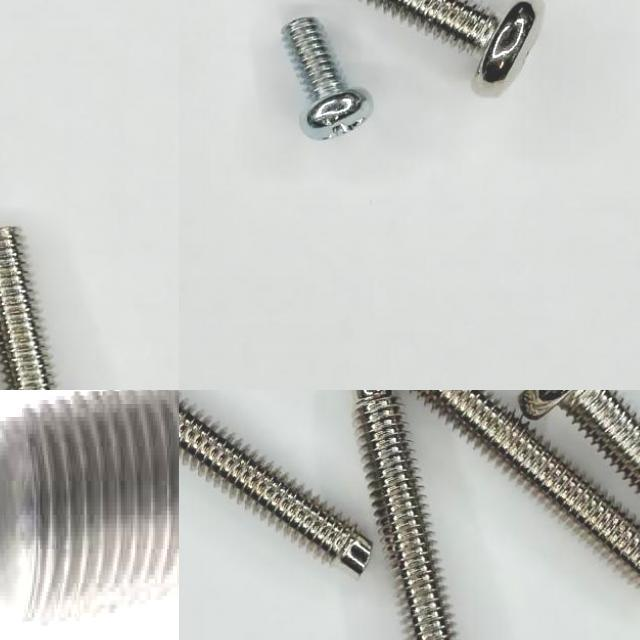Screw: (0, 390, 179, 640), (413, 390, 640, 575), (179, 397, 372, 574), (355, 390, 454, 640), (363, 0, 536, 95), (520, 390, 640, 491), (281, 18, 372, 140), (0, 227, 55, 390)
